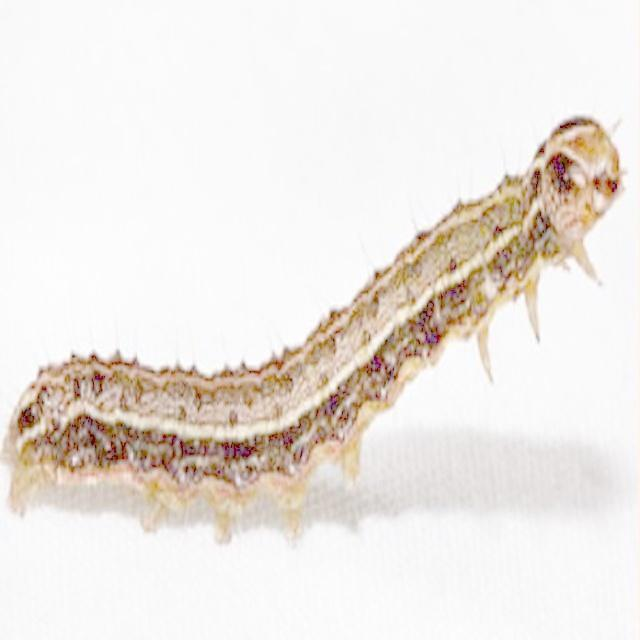Plaga: (15, 113, 625, 501)
